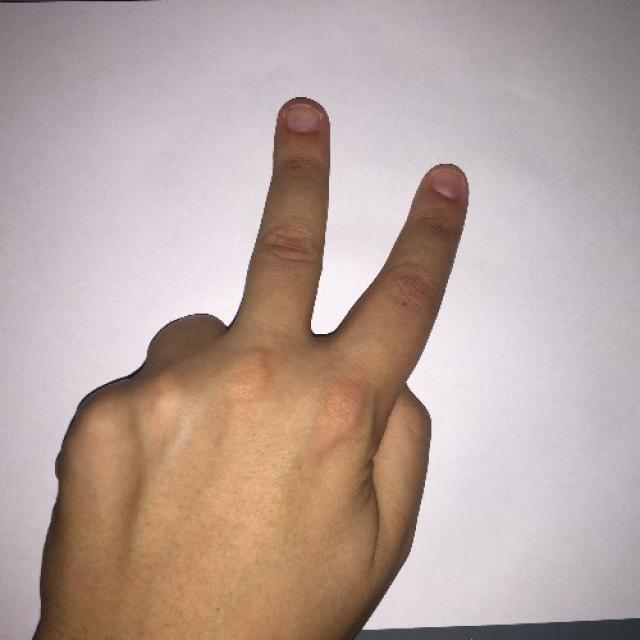scissors: (57, 92, 471, 584)
